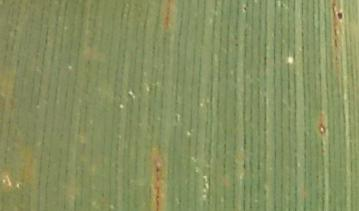tarspot: (336, 11, 344, 21), (153, 166, 161, 173), (242, 5, 248, 12)
